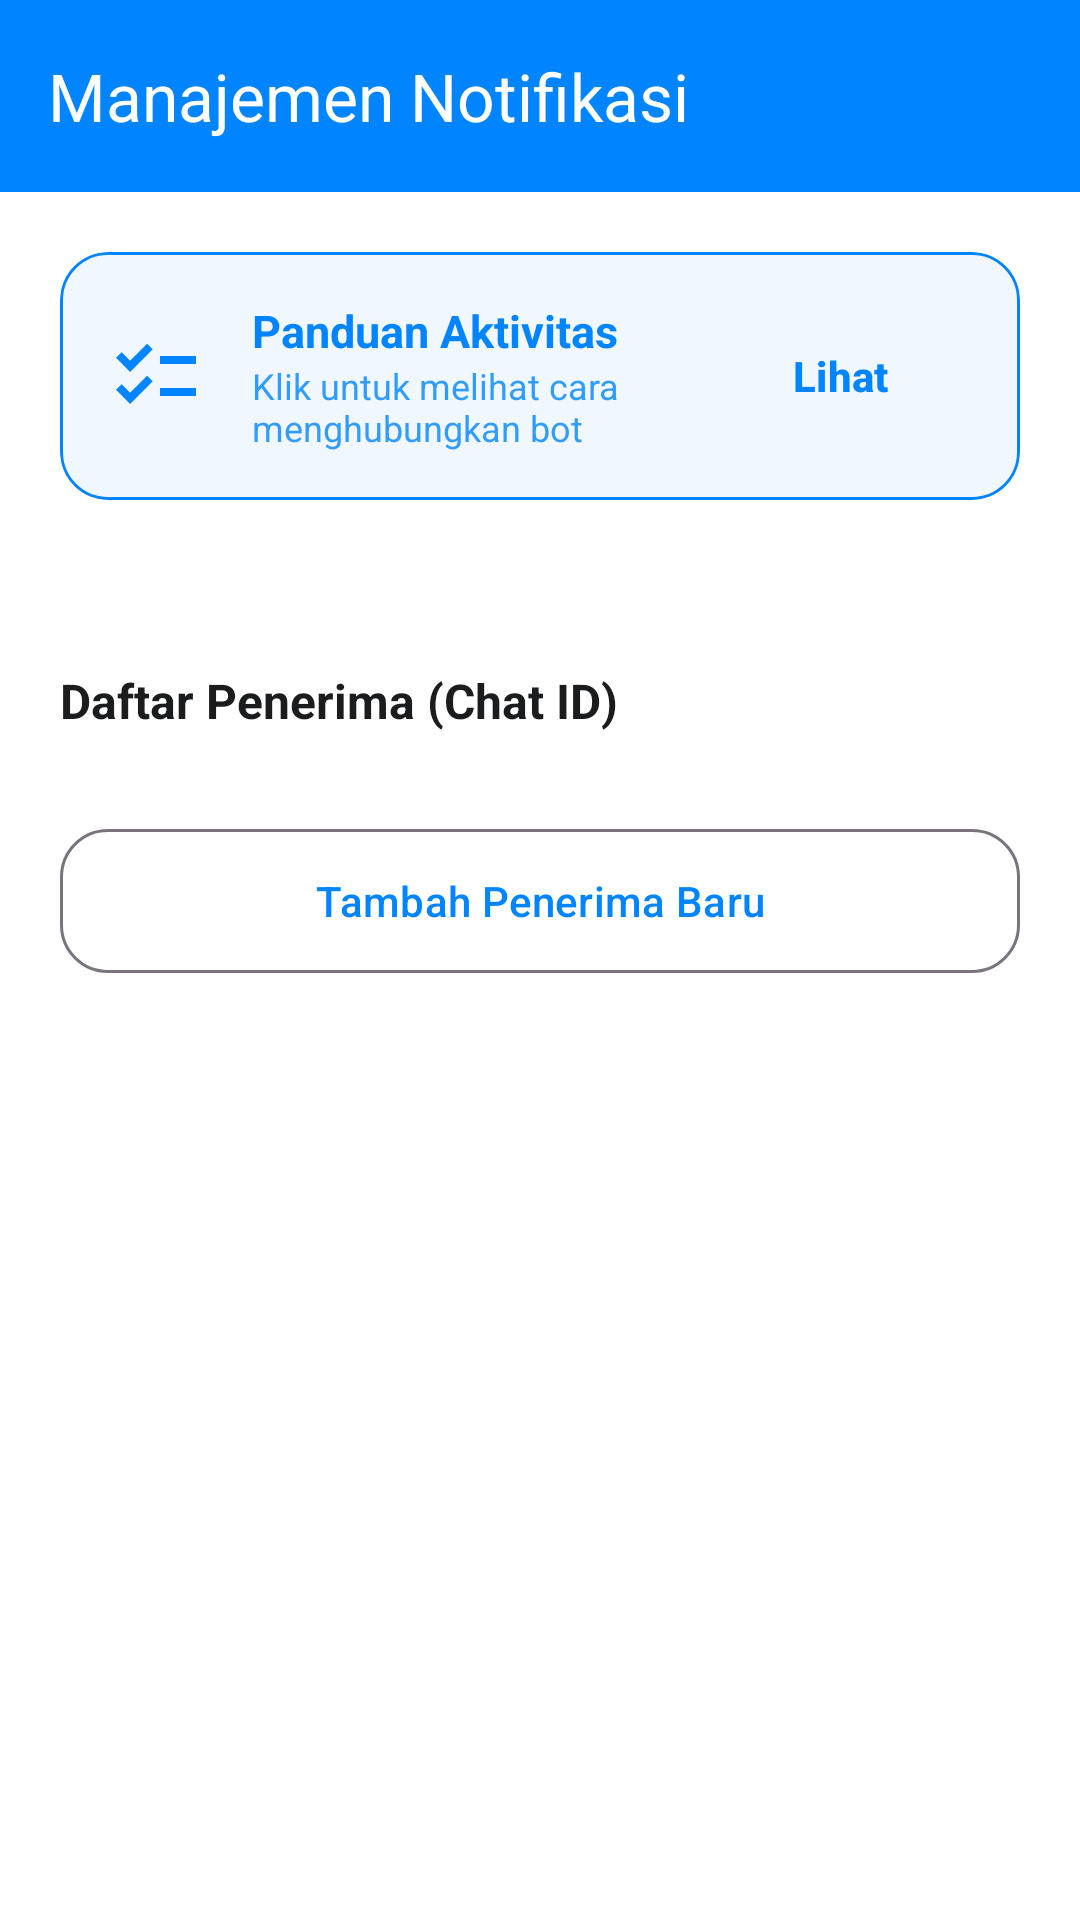

Icons on this 1080px×1920px Android screen, each with the point to tap as [x,y]:
attendance: [156,374]
